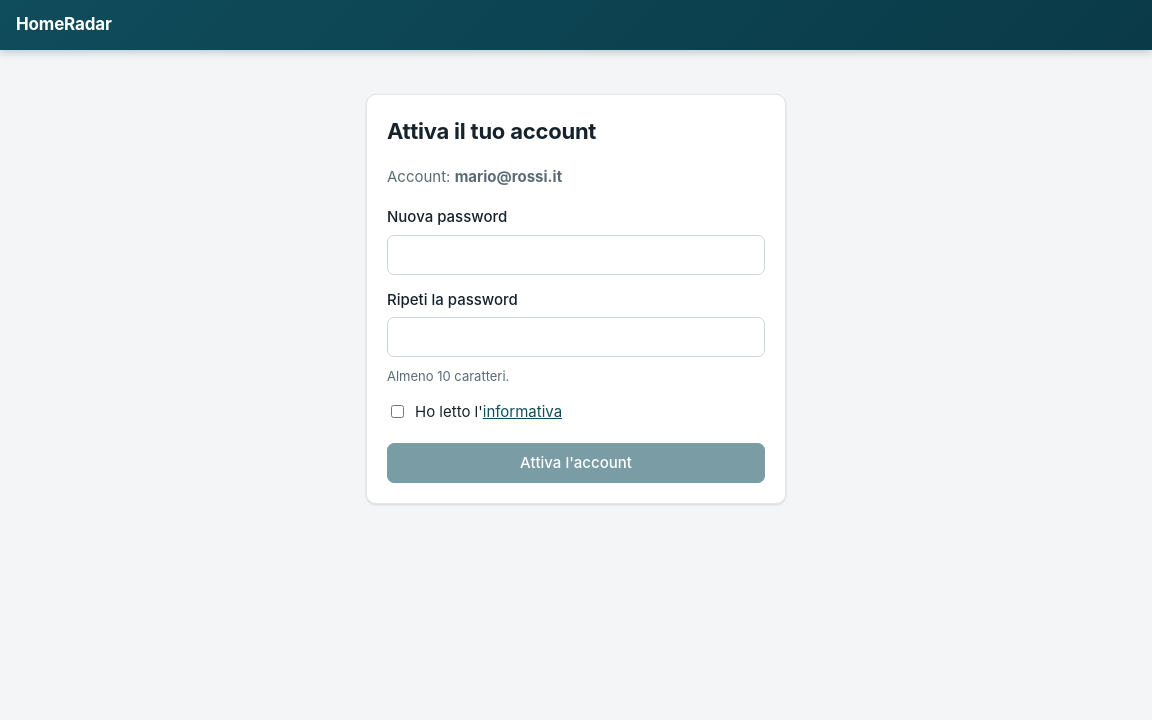
Test: attivazione › invia privacyVersion e porta alla home
expect the text "mario@rossi.it" is shown: met, box [455,166,562,186]
Step 1. Type "password-lunga" into the password field labelled "Nuova password" → point(576, 254), box [387,234,765,274]
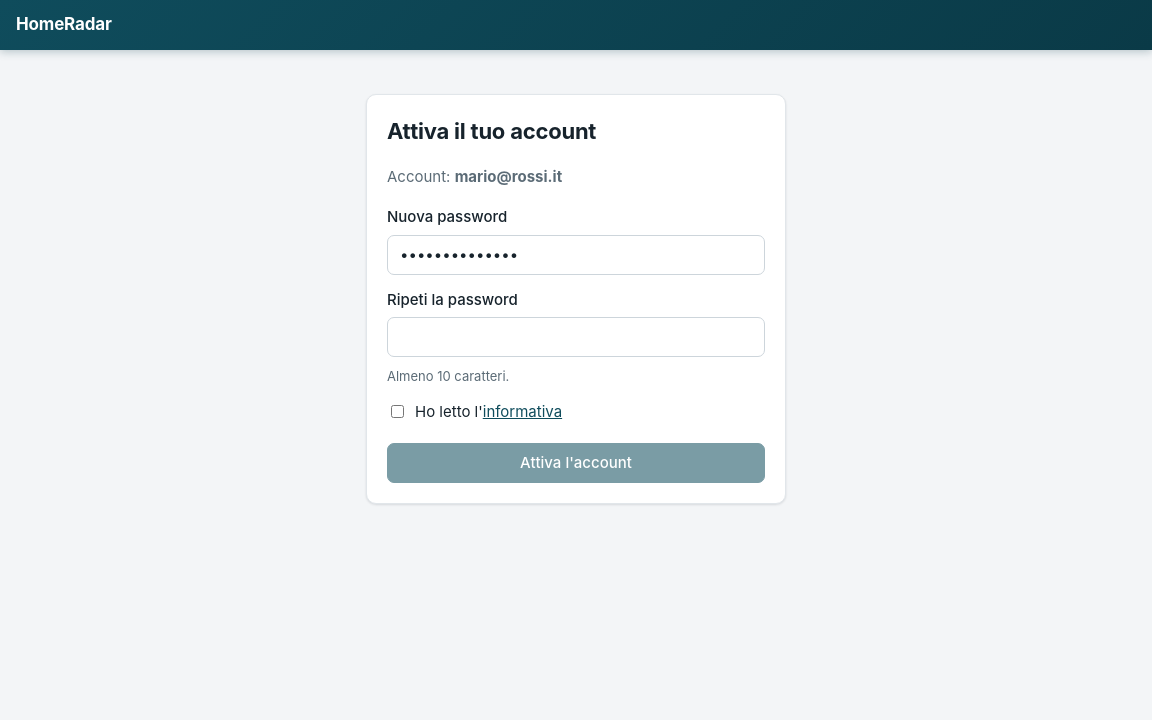
Step 2. Type "password-lunga" into the password field labelled "Ripeti la password" → point(576, 337), box [387,317,765,357]
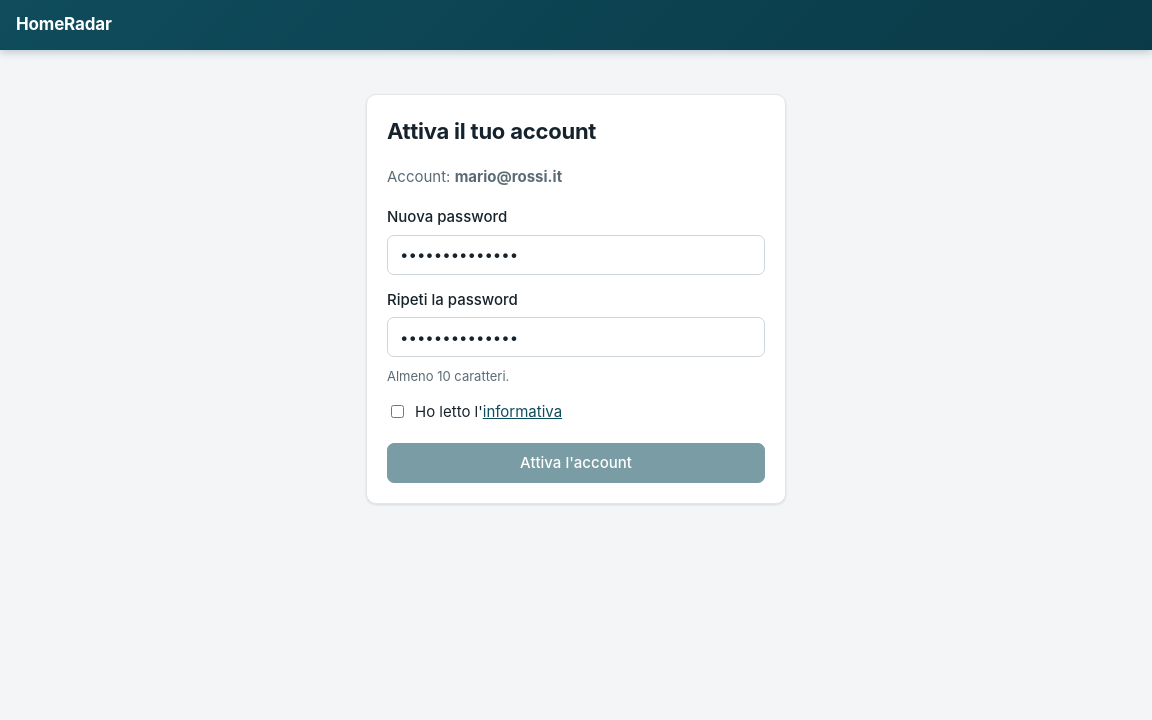
Step 3. Click the checkbox named "Ho letto l'informativa" → point(398, 411), box [391,404,404,418]
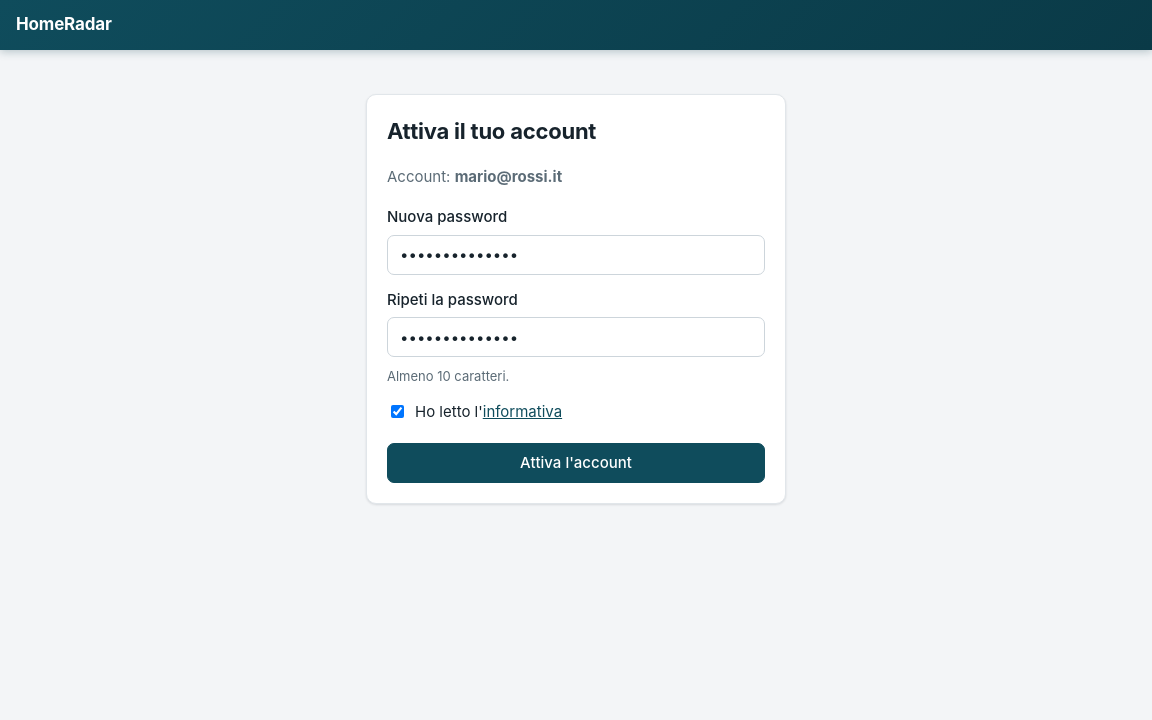
Step 4. Click the button "Attiva l'account" → point(576, 463), box [387,443,765,483]
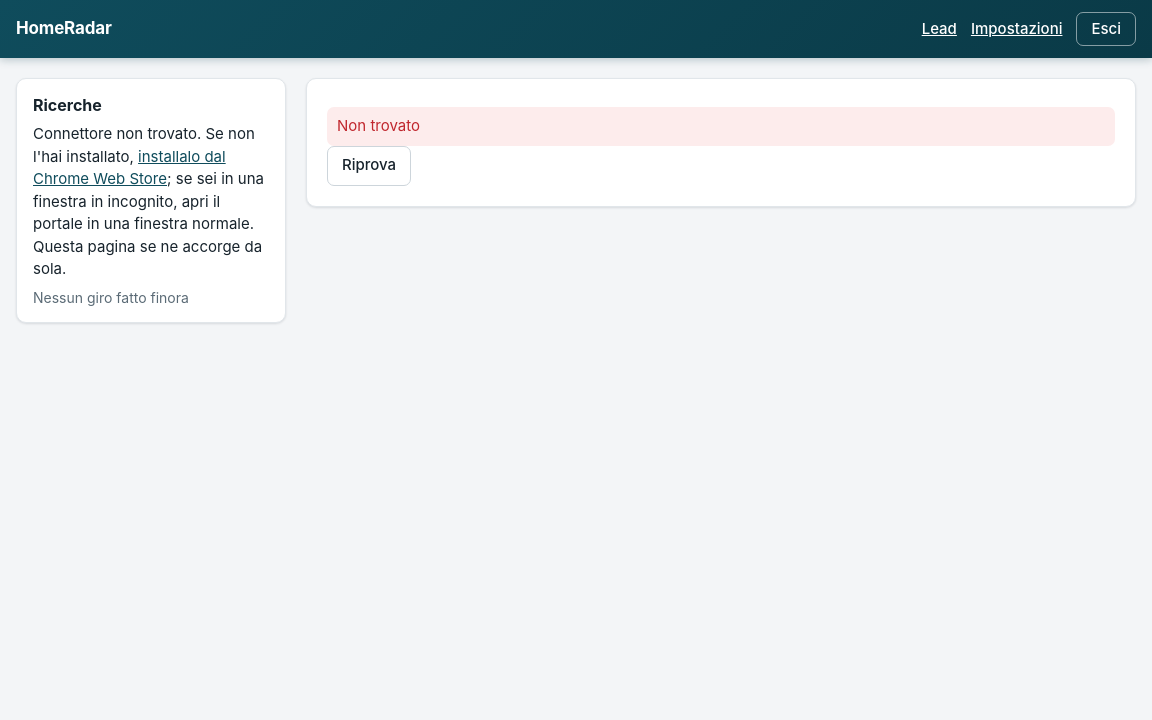
expect the link "Impostazioni" is shown: met, box [971,18,1062,40]
